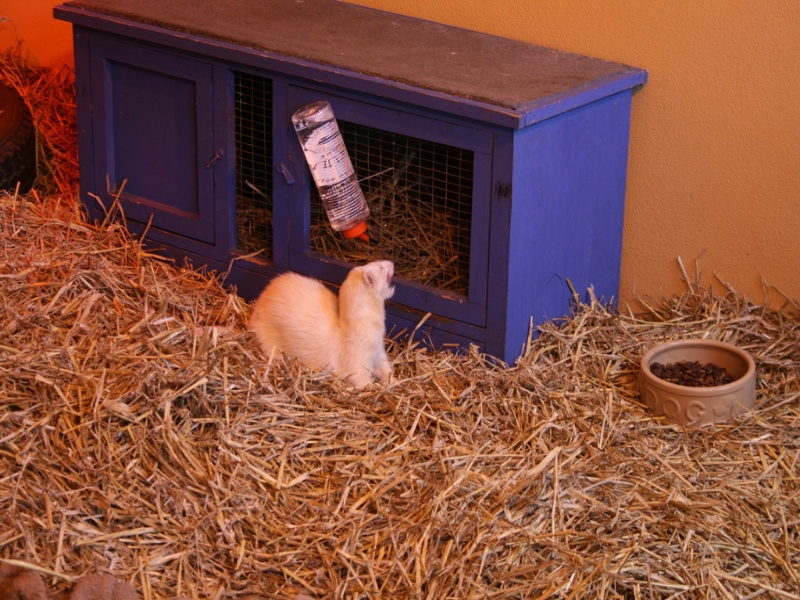minkish: (239, 257, 404, 391)
